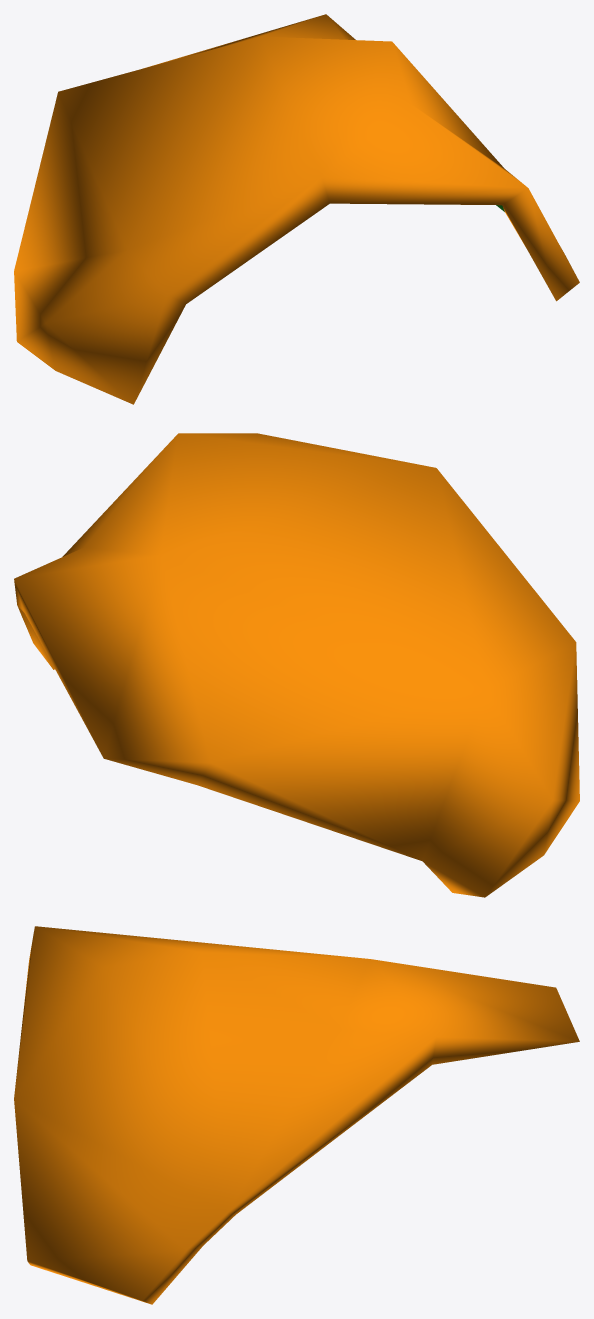
3 renders of one model, top to bottom at view 1: azimuth 30°, elevation 25°; view 2: azimuth 150°, elevation 25°; view 3: azimuth 270°, elevation 25°, orthographic. The views are drawn at different scales.
Visible parts, largest first — view 1: Pumpkin_01.001_cell.003; view 2: Pumpkin_01.001_cell.003; view 3: Pumpkin_01.001_cell.003.
Boxes of the visible parts, bbox=[...] form: Pumpkin_01.001_cell.003: bbox=[14, 14, 579, 404]; Pumpkin_01.001_cell.003: bbox=[14, 433, 579, 897]; Pumpkin_01.001_cell.003: bbox=[14, 926, 579, 1304].
Bounding box in the file's own units: 0.9127 × 0.4932 × 0.8141.
2 materials, 2 textured.
